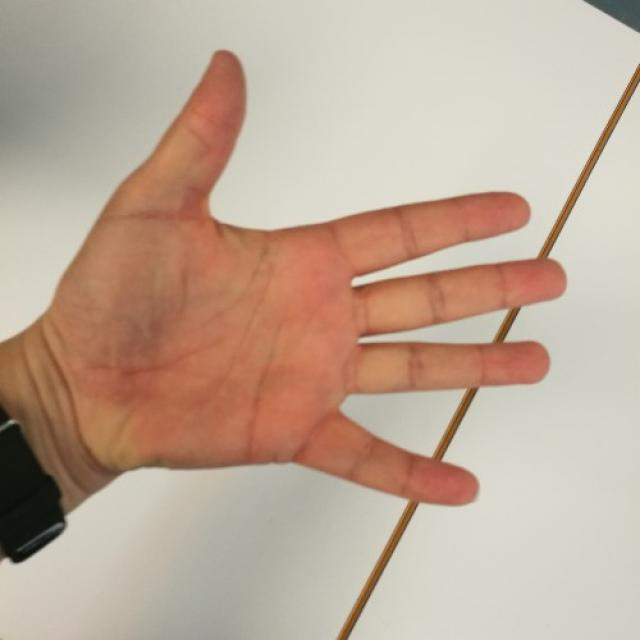paper: (67, 49, 568, 508)
